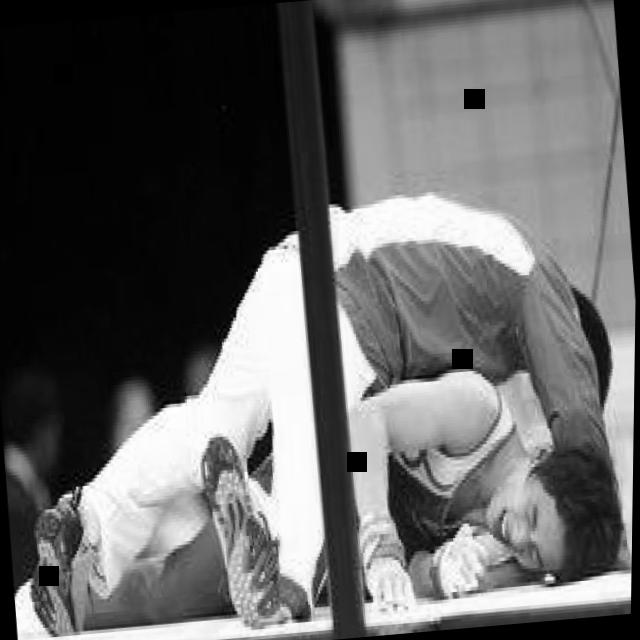Fall-Detected: (0, 124, 639, 618)
